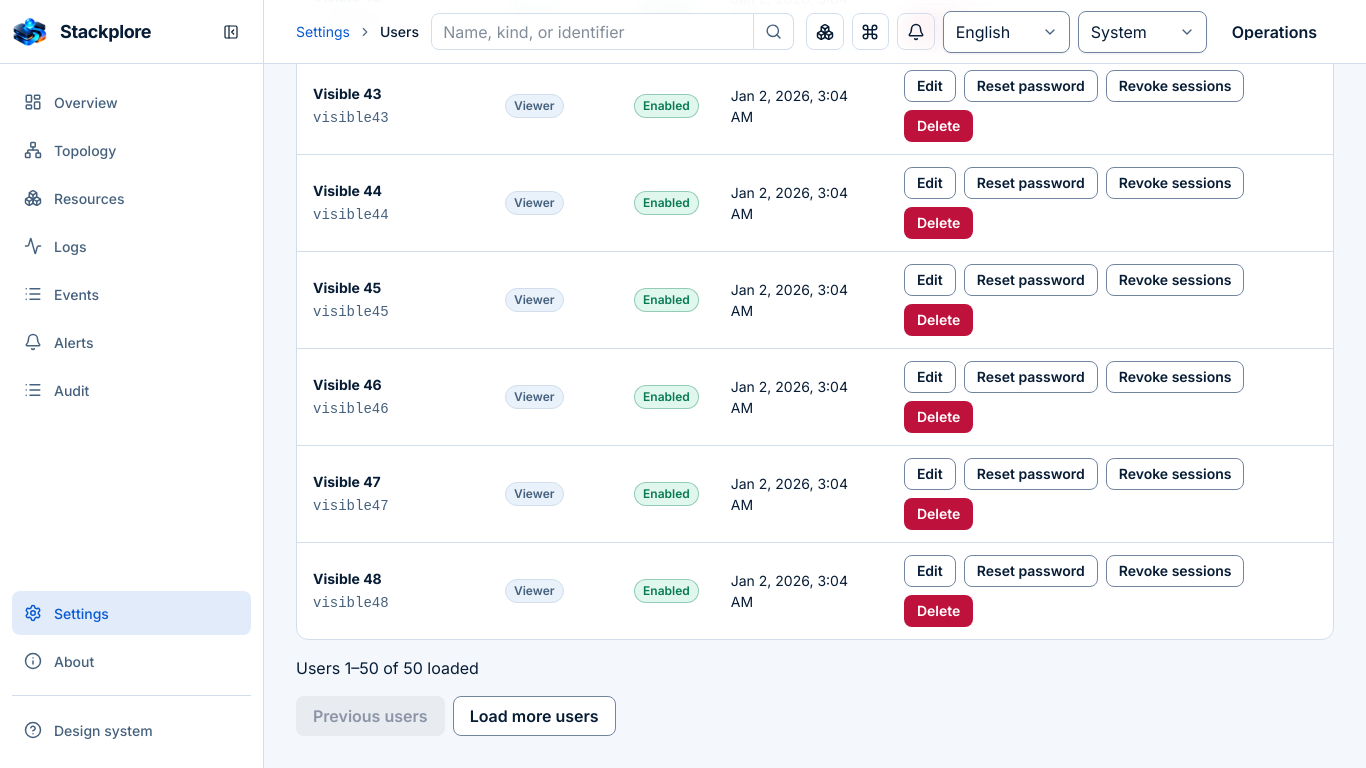
user administration flow › returns to the first visible page after a successful account action
(page scrolled)
Click the button "Load more users" at (534, 716), box [453,696,616,736]
(page scrolled)
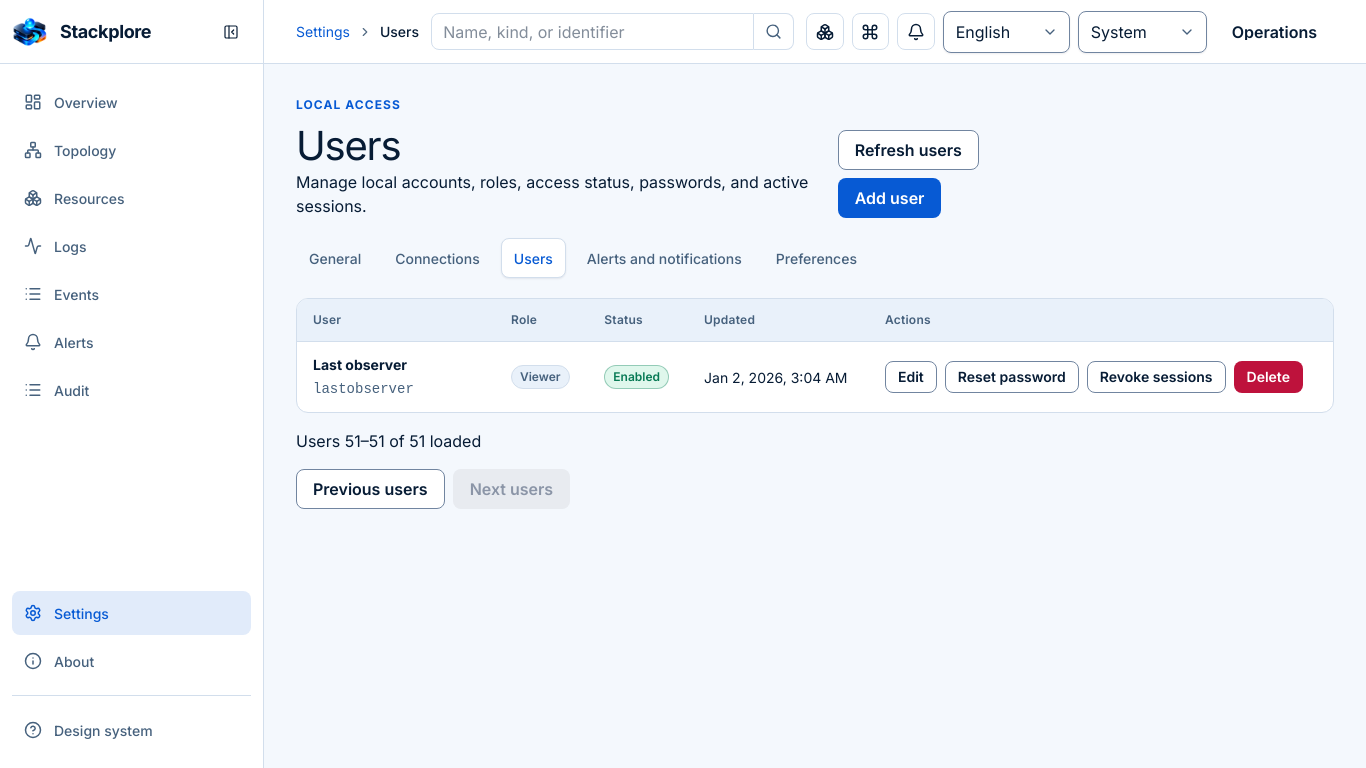
Click the button with aria-label "Revoke sessions for Last observer" at (1156, 377), box [1087,361,1226,393]
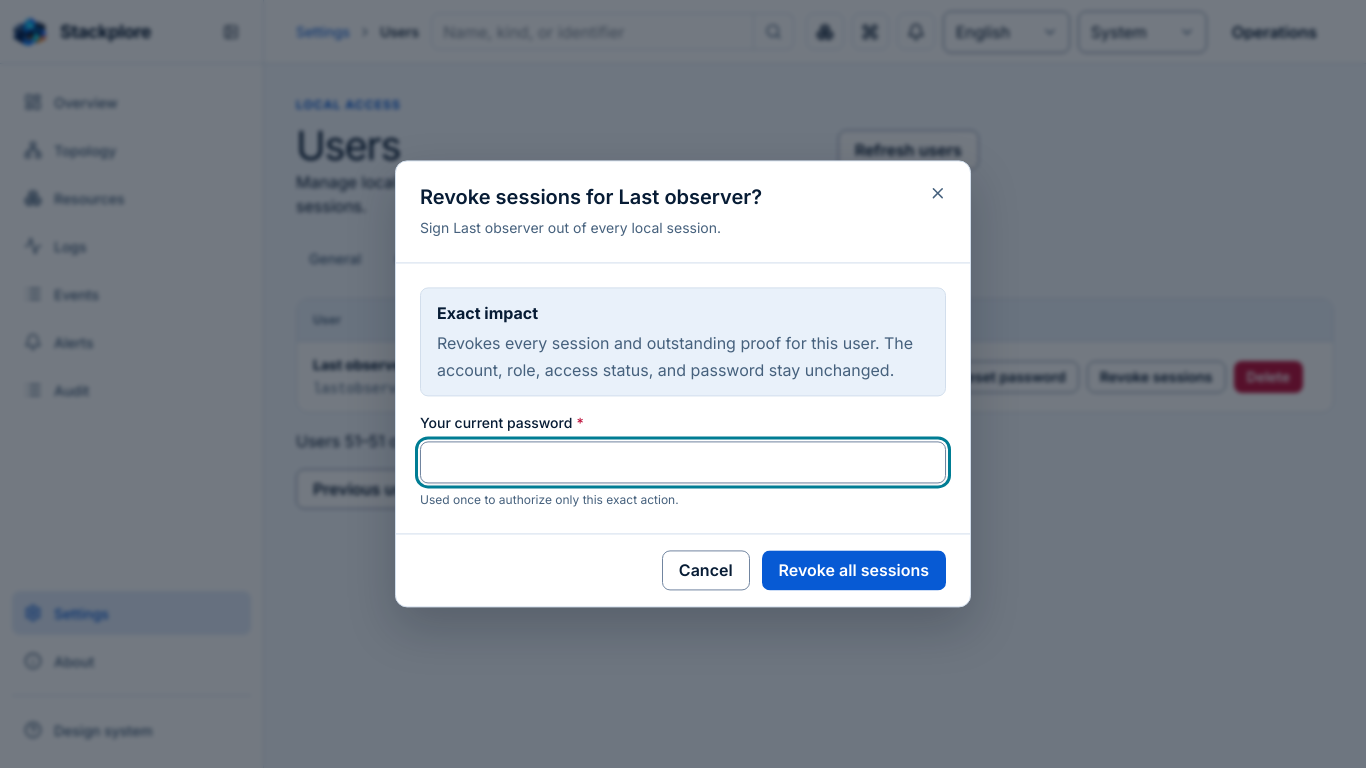
Type "admin-password" into the password field labelled "Your current password*" at (683, 463), box [420,442,946,484]
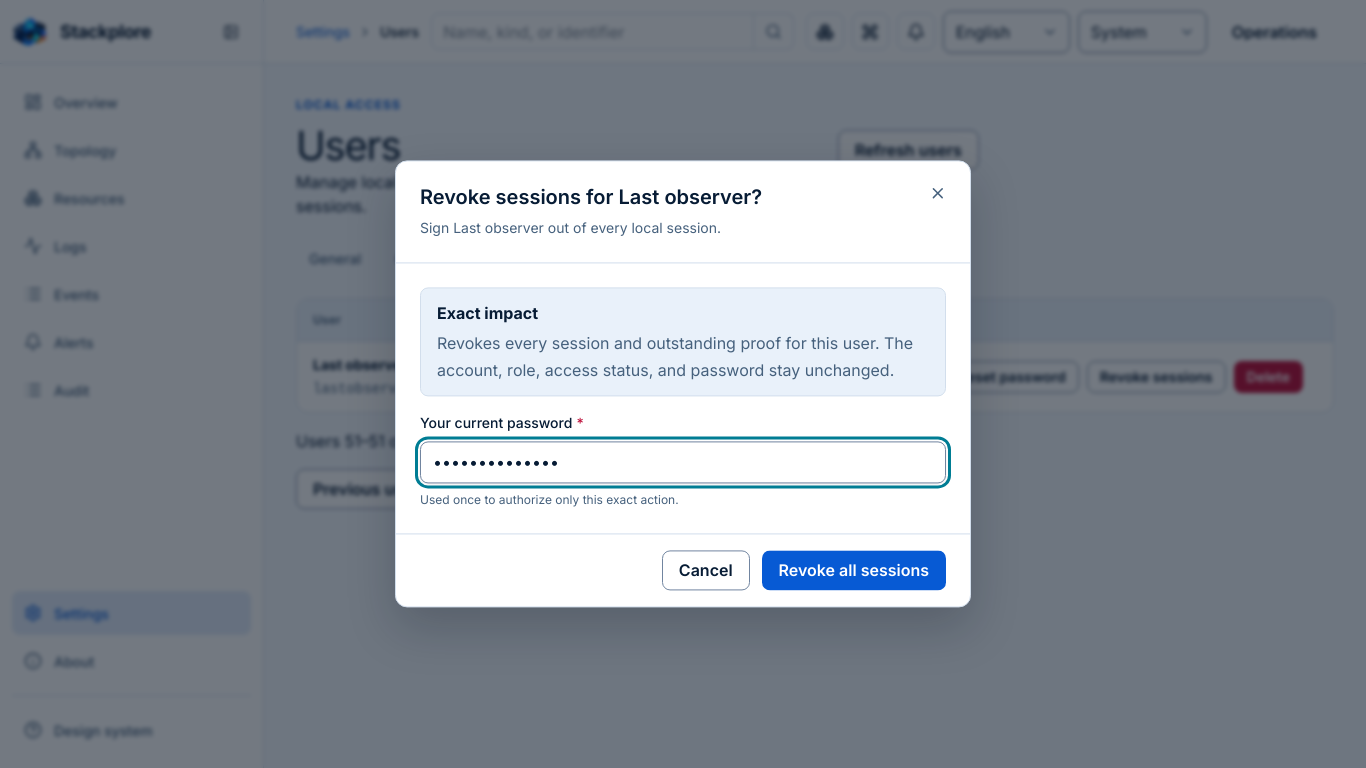
Click the button "Revoke all sessions" at (854, 571), box [762,551,946,591]
(page scrolled)
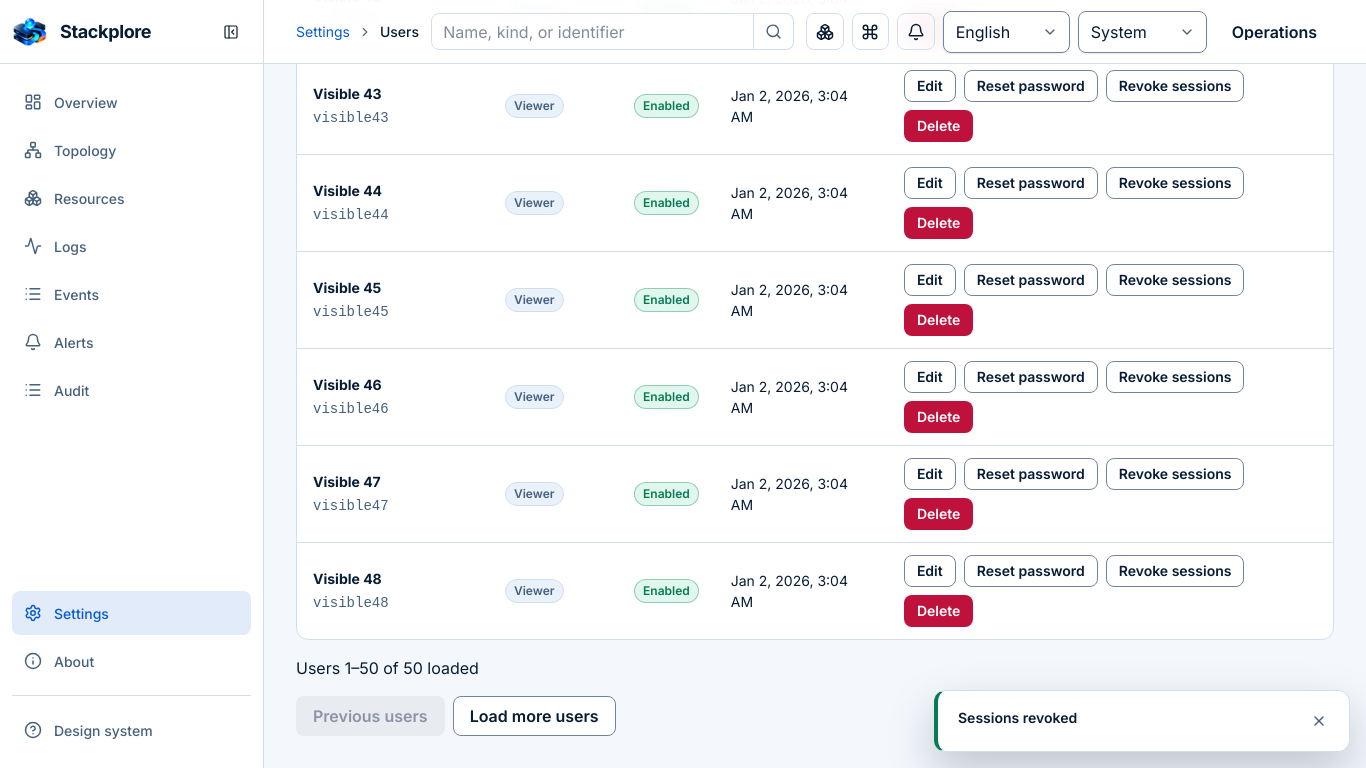
Expected: the dialog is gone
Expected: the text "Last observer" is gone
Expected: the button "Previous users" is disabled, [296,696,445,736]
